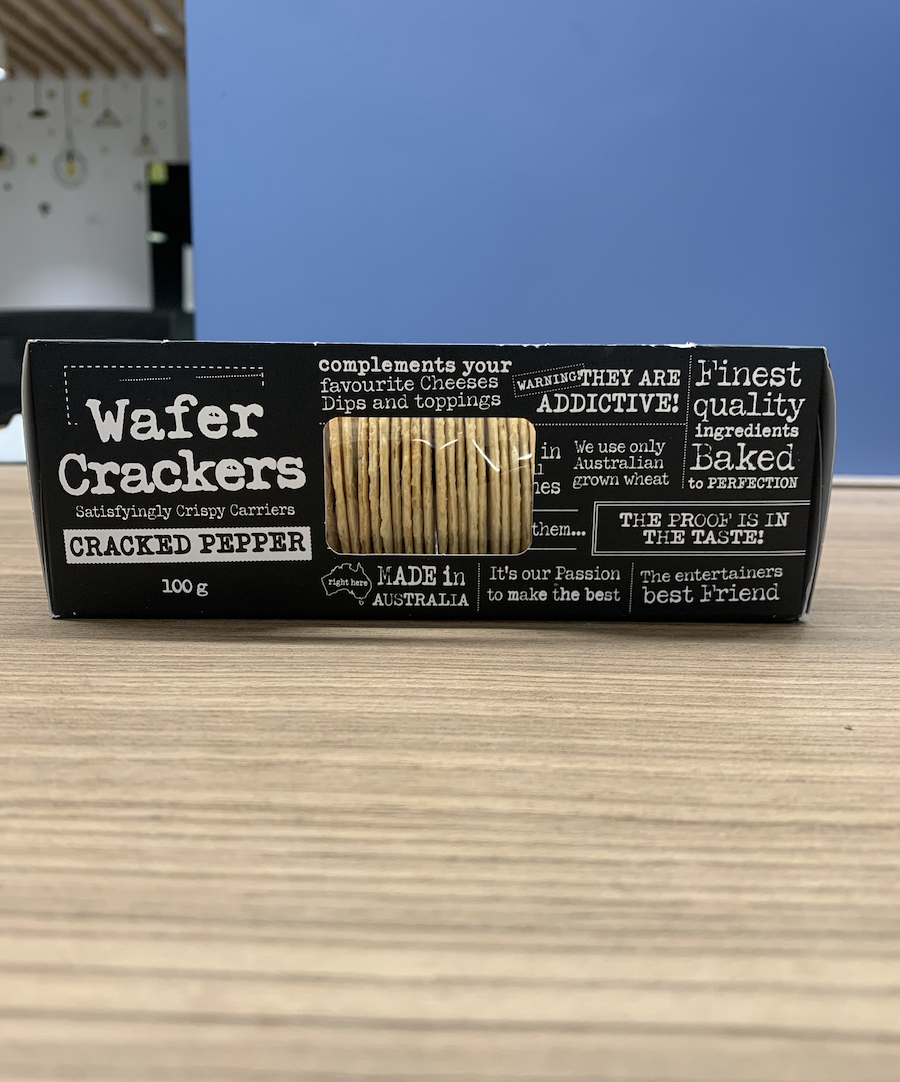crackers_150g: (50, 354, 810, 610)
